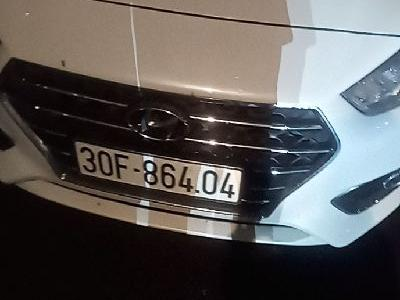car: (71, 137, 245, 210)
